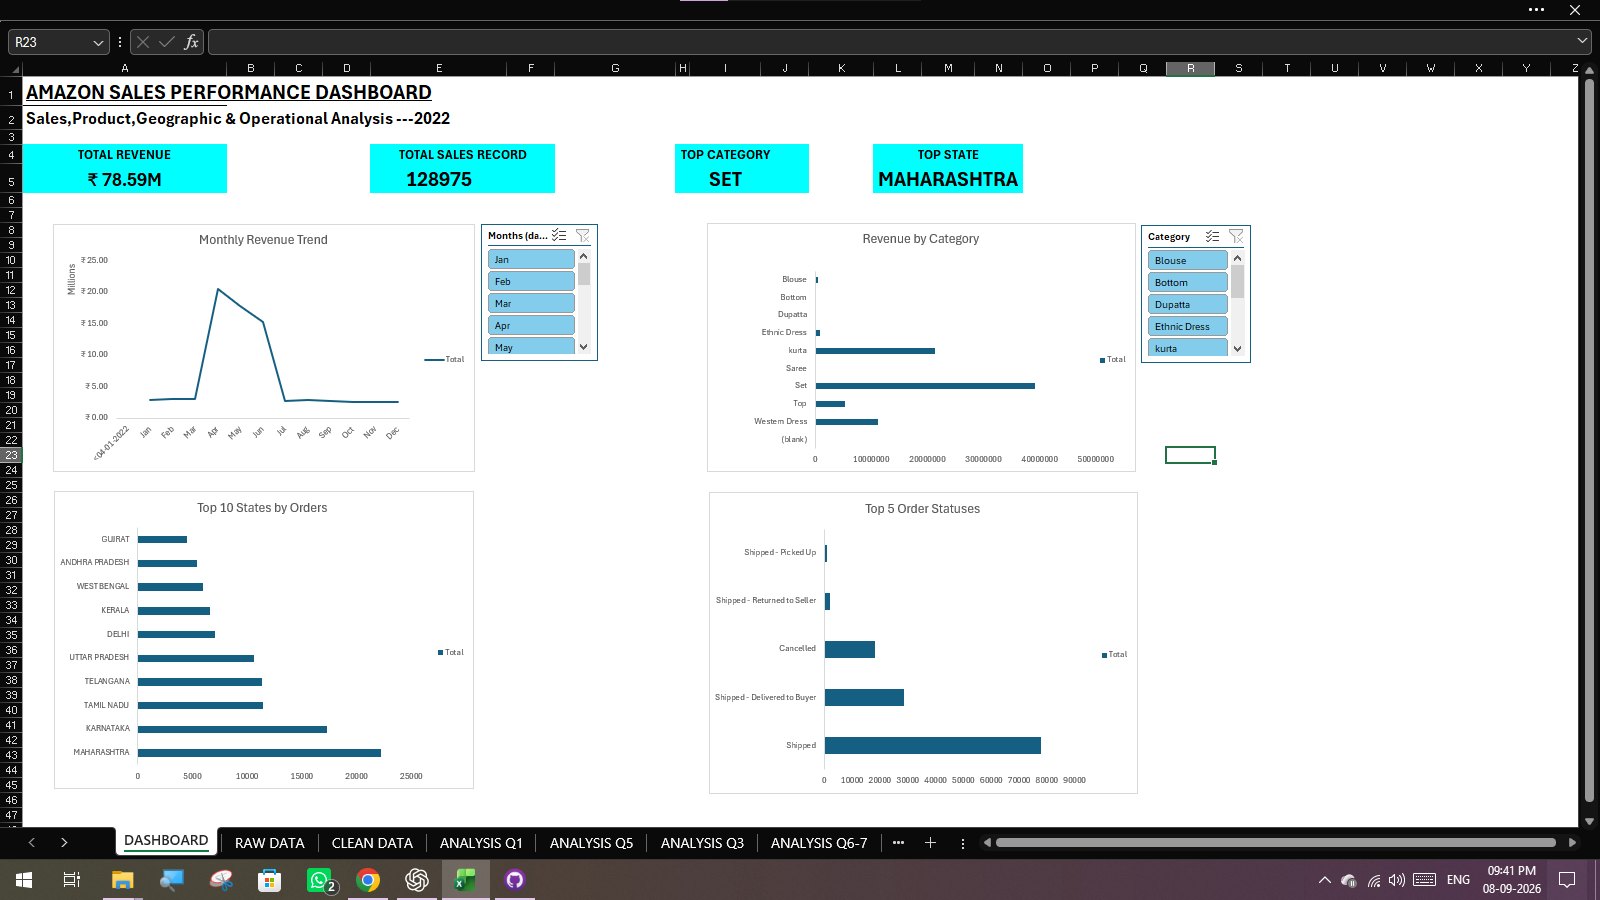

The page's visual inventory and layout, read from the dashboard file:
{"tool":"powerbi","page":{"name":"Page 1","canvas":[1600,1600],"ordinal":0},"visuals":[{"type":"card","fields":{"Values":["Sum(CLEAN DATA.Amount)"]},"box":[40.5,158.1,251.4,148.6],"z":1},{"type":"card","fields":{"Values":["CountNonNull(CLEAN DATA.order id count)"]},"box":[595.9,155.4,243.2,148.6],"z":2},{"type":"card","fields":{"Values":["Count(CLEAN DATA.Order ID)"]},"box":[1171.6,155.4,241.9,151.4],"z":3},{"type":"lineChart","title":"Monthly Revenue Trend","fields":{"Category":["CLEAN DATA.date clean.Variation.Date Hierarchy.Month"],"Y":["Sum(CLEAN DATA.Amount)"]},"box":[27,360.8,506.8,318.9],"z":4},{"type":"clusteredBarChart","title":"Revenue by Category","fields":{"Category":["CLEAN DATA.Category"],"Y":["Sum(CLEAN DATA.Amount)"]},"box":[800,360.8,544.6,327],"z":5},{"type":"clusteredBarChart","title":"Top 10 States by Orders","fields":{"Category":["CLEAN DATA.State Clean"],"Y":["CountNonNull(CLEAN DATA.Order ID)"]},"box":[28.4,751.4,506.8,355.4],"z":6},{"type":"clusteredBarChart","title":"Top 5 Order Statuses","fields":{"Category":["CLEAN DATA.Status"],"Y":["CountNonNull(CLEAN DATA.Order ID)"]},"box":[801.4,751.4,544.6,352.7],"z":7},{"type":"slicer","fields":{"Values":["CLEAN DATA.Category"]},"box":[1345.9,370.3,135.1,150],"z":8},{"type":"slicer","fields":{"Values":["CLEAN DATA.date clean.Variation.Date Hierarchy.Month"]},"box":[535.1,360.8,151.4,151.4],"z":9},{"type":"textbox","box":[39.2,37.8,694.6,44.6],"z":10},{"type":"textbox","box":[40.5,91.9,693.2,39.2],"z":11}]}

Visuals, with their boxes on the page's 1600x1600 design canvas (x1, y1, x2, y2). These are canvas units, not pixel positions in the 1600x900 screenshot, which may show the page scaled, cropped or inside an application window:
card - Sum(CLEAN DATA.Amount): left=40, top=158, right=292, bottom=307
card - CountNonNull(CLEAN DATA.order id count): left=596, top=155, right=839, bottom=304
card - Count(CLEAN DATA.Order ID): left=1172, top=155, right=1414, bottom=307
"Monthly Revenue Trend" lineChart: left=27, top=361, right=534, bottom=680
"Revenue by Category" clusteredBarChart: left=800, top=361, right=1345, bottom=688
"Top 10 States by Orders" clusteredBarChart: left=28, top=751, right=535, bottom=1107
"Top 5 Order Statuses" clusteredBarChart: left=801, top=751, right=1346, bottom=1104
slicer - CLEAN DATA.Category: left=1346, top=370, right=1481, bottom=520
slicer - CLEAN DATA.date clean.Variation.Date Hierarchy.Month: left=535, top=361, right=686, bottom=512
textbox: left=39, top=38, right=734, bottom=82
textbox: left=40, top=92, right=734, bottom=131
